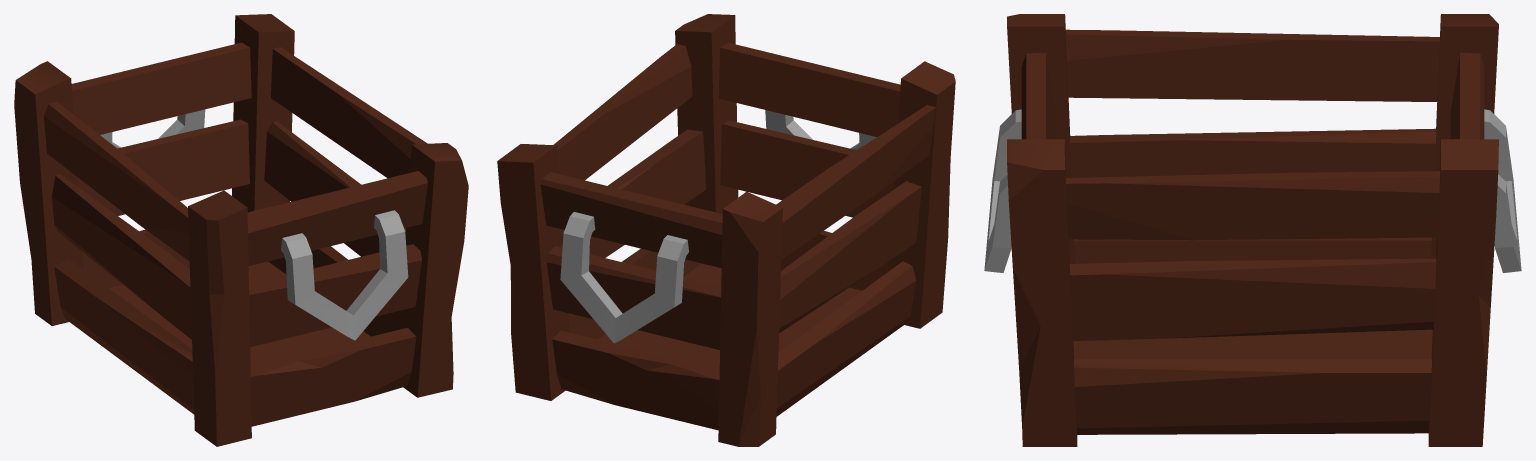
The model's file is Crate.fbx.
3 views of the same model, side by side, from view 1: azimuth 30°, elevation 25°; view 2: azimuth 150°, elevation 25°; view 3: azimuth 270°, elevation 25° (orthographic). The views are drawn at different scales.
Parts seen in each view (by area): view 1: Crate; view 2: Crate; view 3: Crate.
Boxes of the visible parts, x1=… form: Crate: x1=14, y1=14, x2=468, y2=446; Crate: x1=497, y1=14, x2=955, y2=446; Crate: x1=984, y1=14, x2=1521, y2=446.
Bounding box in the file's own units: 14.96 × 13.12 × 21.8.
